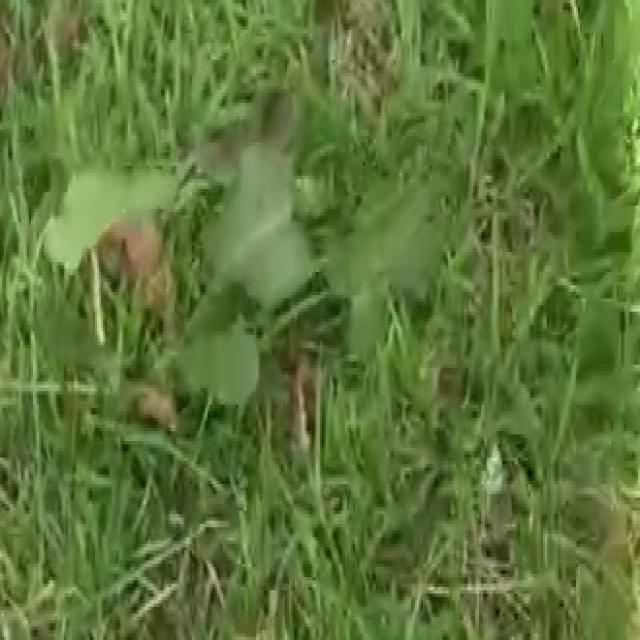organic waste: (68, 129, 440, 458)
